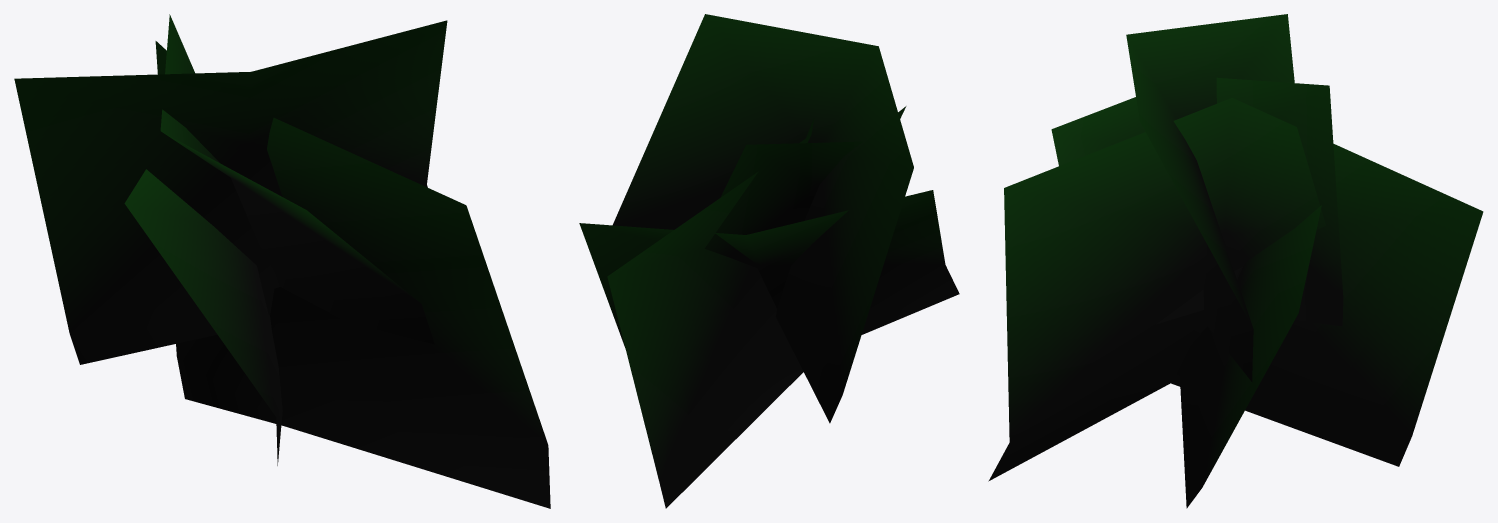
The model's file is SimpleGrassRHEP.fbx.
3 views of the same model, side by side, from view 1: azimuth 30°, elevation 25°; view 2: azimuth 150°, elevation 25°; view 3: azimuth 270°, elevation 25° (orthographic). The views are drawn at different scales.
Visible parts, largest first — view 1: SGRHEP_LOD0; view 2: SGRHEP_LOD0; view 3: SGRHEP_LOD0.
Boxes of the visible parts, bbox=[...] form: SGRHEP_LOD0: bbox=[14, 14, 550, 508]; SGRHEP_LOD0: bbox=[579, 14, 959, 508]; SGRHEP_LOD0: bbox=[988, 14, 1483, 508].
Size of what is drawn, in the model's own units: 1.5 by 1.65 by 1.89.
